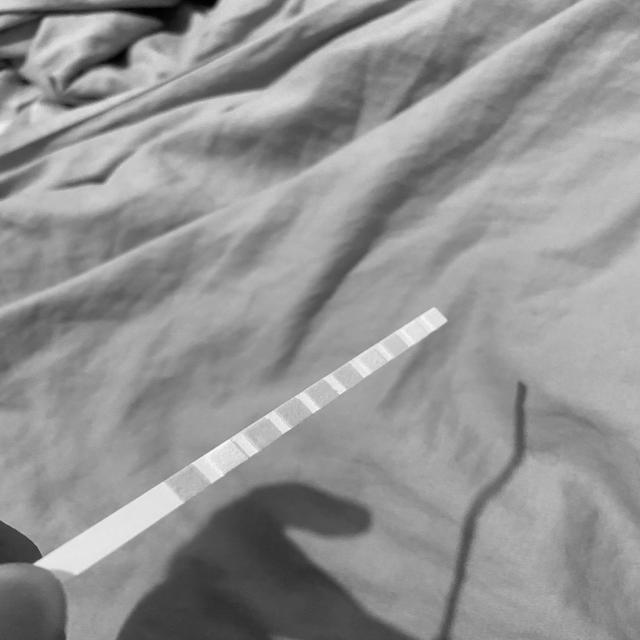Bilirubin: (214, 449, 238, 466)
Blood: (314, 387, 332, 400)
Glucose: (178, 474, 202, 492)
Ketone: (252, 426, 275, 442)
Leukocytes: (428, 313, 441, 323)
Nitrite: (409, 326, 422, 335)
Protein: (364, 353, 380, 366)
SpGravity: (283, 405, 306, 419)
Urobilinogen: (387, 340, 402, 350)
background: (0, 0, 640, 640)
pH: (340, 369, 355, 383)
strip: (44, 308, 447, 577)
